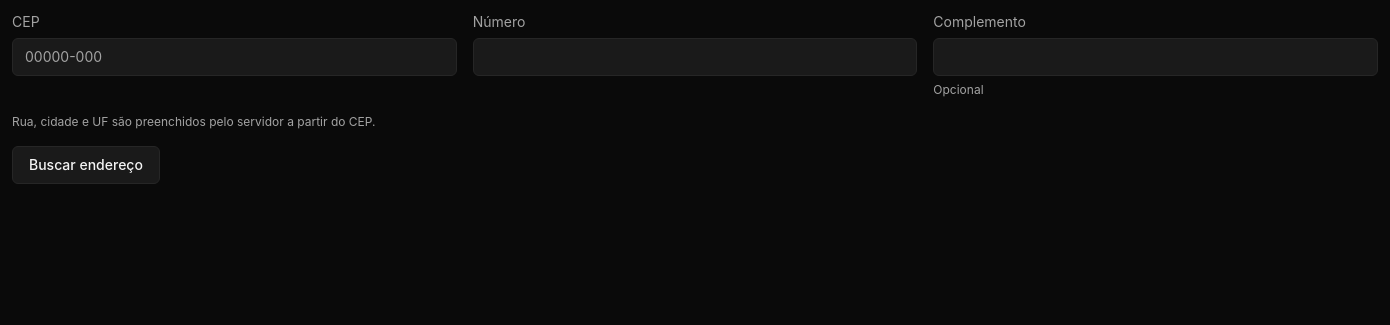
Test: AddressPicker › endereços do mesmo CEP com outros números viram sugestões clicáveis
Type "01310100" into the field labelled "CEP". click: (234, 57)
box: [12,38,457,76]
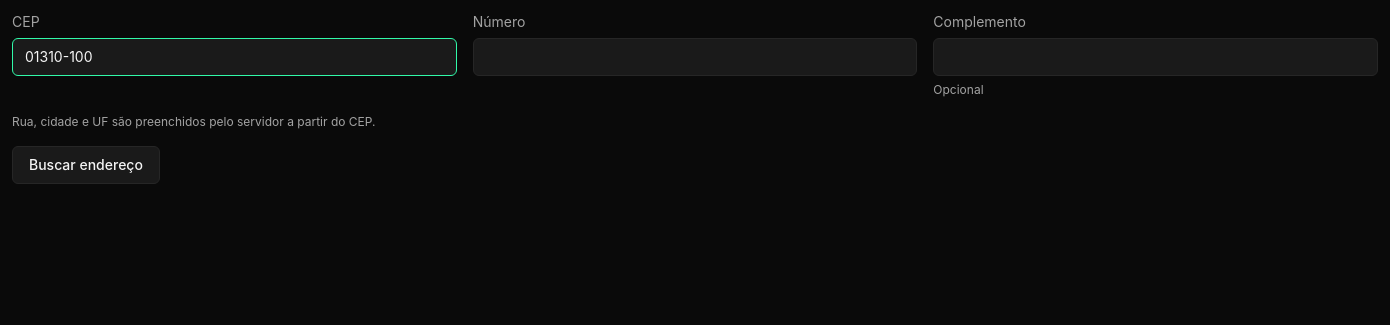
Type "1000" into the field labelled "Número". click: (695, 57)
box: [473,38,917,76]
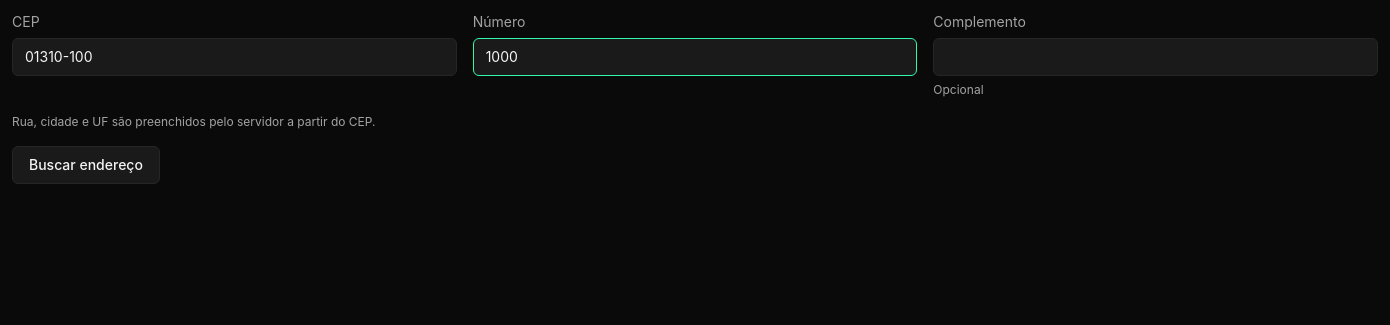
Click the button "Buscar endereço". click: (86, 165)
box: [12,146,160,184]
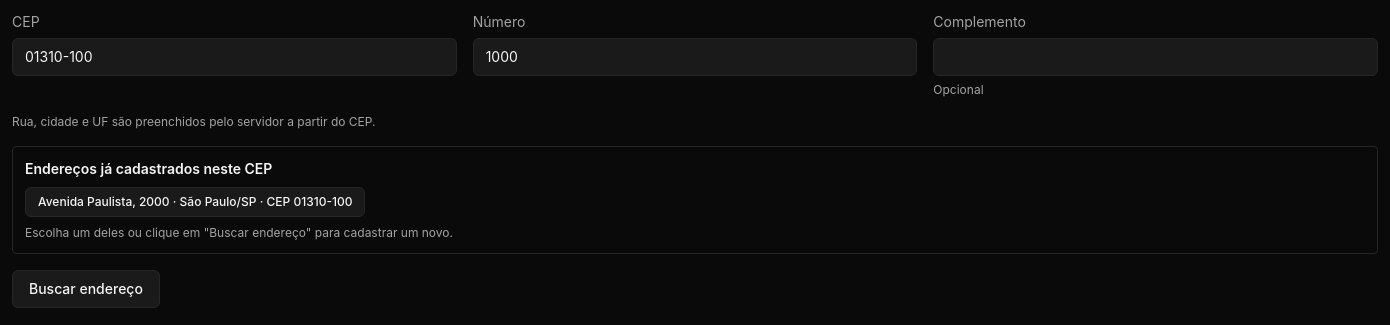
Result: the text "Endereços já cadastrados neste CEP" is shown at [25,160,272,177]
Click the button "Avenida Paulista, 2000 · São Paulo/SP · CEP 01310-100". click: (195, 202)
box: [25,187,366,217]
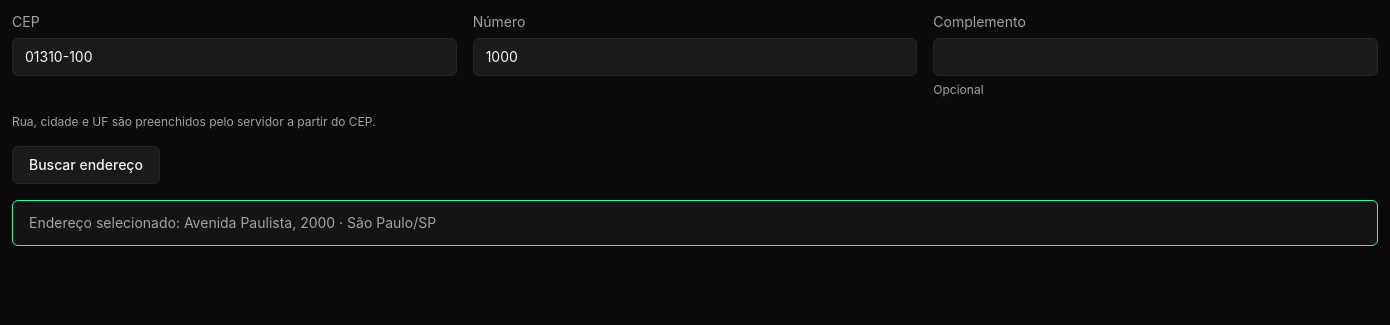
Result: the text "Endereços já cadastrados neste CEP" is gone
